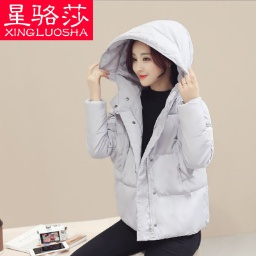face: (123, 31, 183, 101)
